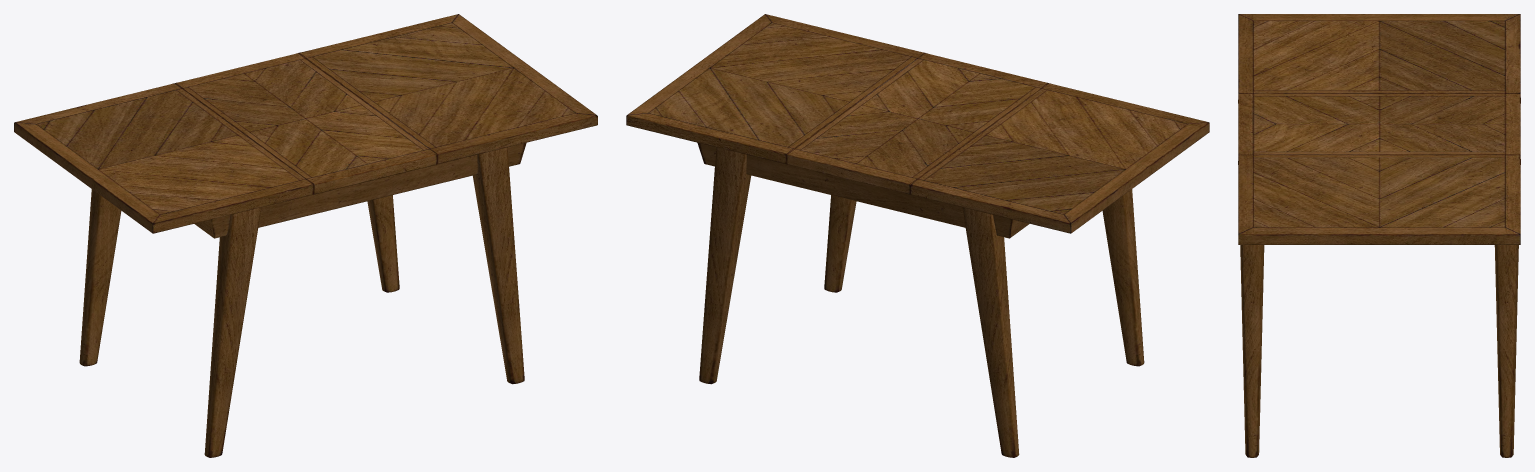
The model's file is abo-B07B82PXD8.glb.
The picture shows the model from 3 angles, left to right: view 1: azimuth 30°, elevation 25°; view 2: azimuth 150°, elevation 25°; view 3: azimuth 270°, elevation 25°; orthographic projection.
Bounding box in the file's own units: 1.4 × 0.76 × 0.757.
Materials: 1 (1 with a texture image).
